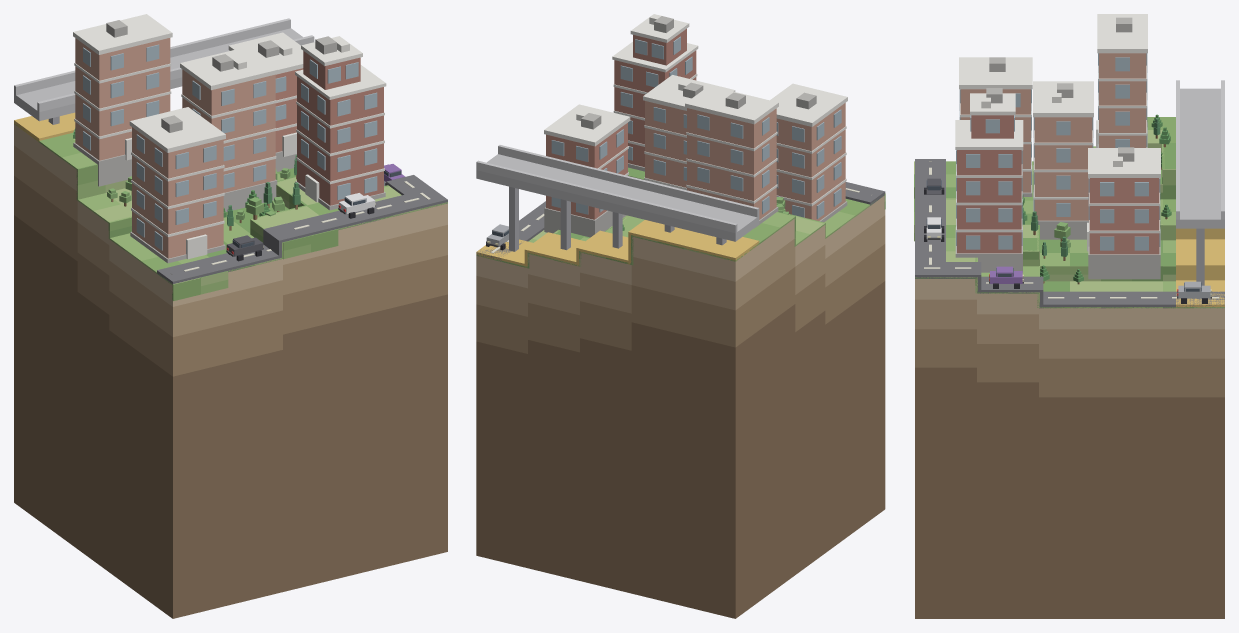
File: block_7_leakingdam_0.glb
The picture shows the model from 3 angles, left to right: view 1: azimuth 30°, elevation 25°; view 2: azimuth 150°, elevation 25°; view 3: azimuth 270°, elevation 25°; orthographic projection. The views are drawn at different scales.
Visible parts, largest first — view 1: Patch_UpperLeft_b04_LD, Res_UL_09_LD, Res_UL_06_LD, Res_UL_05_LD, Res_UL_08_LD, Green_UpperLeft_j4_b04_LD, Roads_UpperLeft_b04_LD, Bridge_UpperLeft_b04_LD, Res_UL_07_LD, Paver_UpperLeft_b04_LD, ULCar_007_LD, ULCar_006_LD; view 2: Patch_UpperLeft_b04_LD, Bridge_UpperLeft_b04_LD, Res_UL_05_LD, Res_UL_06_LD, Res_UL_09_LD, Res_UL_07_LD, Paver_UpperLeft_b04_LD, Res_UL_08_LD, Green_UpperLeft_j4_b04_LD, Roads_UpperLeft_b04_LD; view 3: Patch_UpperLeft_b04_LD, Res_UL_09_LD, Res_UL_07_LD, Green_UpperLeft_j4_b04_LD, Res_UL_08_LD, Bridge_UpperLeft_b04_LD, Roads_UpperLeft_b04_LD, Res_UL_05_LD, Res_UL_06_LD, Paver_UpperLeft_b04_LD, ULCar_011_LD, ULCar_012_LD (+1 smaller).
Boxes of the visible parts, x1=… form: Patch_UpperLeft_b04_LD: x1=14, y1=124, x2=447, y2=618; Res_UL_09_LD: x1=295, y1=36, x2=386, y2=210; Res_UL_06_LD: x1=129, y1=107, x2=225, y2=263; Res_UL_05_LD: x1=73, y1=14, x2=172, y2=186; Res_UL_08_LD: x1=180, y1=47, x2=277, y2=211; Green_UpperLeft_j4_b04_LD: x1=14, y1=124, x2=447, y2=301; Roads_UpperLeft_b04_LD: x1=157, y1=175, x2=447, y2=284; Bridge_UpperLeft_b04_LD: x1=14, y1=18, x2=314, y2=124; Res_UL_07_LD: x1=228, y1=32, x2=303, y2=171; Paver_UpperLeft_b04_LD: x1=14, y1=112, x2=75, y2=141; ULCar_007_LD: x1=338, y1=193, x2=375, y2=218; ULCar_006_LD: x1=226, y1=235, x2=263, y2=261; Patch_UpperLeft_b04_LD: x1=476, y1=196, x2=885, y2=618; Bridge_UpperLeft_b04_LD: x1=476, y1=145, x2=759, y2=251; Res_UL_05_LD: x1=685, y1=85, x2=778, y2=228; Res_UL_06_LD: x1=770, y1=83, x2=847, y2=222; Res_UL_09_LD: x1=612, y1=14, x2=698, y2=171; Res_UL_07_LD: x1=544, y1=104, x2=630, y2=237; Paver_UpperLeft_b04_LD: x1=476, y1=220, x2=759, y2=267; Res_UL_08_LD: x1=643, y1=75, x2=735, y2=190; Green_UpperLeft_j4_b04_LD: x1=476, y1=167, x2=885, y2=268; Roads_UpperLeft_b04_LD: x1=476, y1=182, x2=885, y2=260; Patch_UpperLeft_b04_LD: x1=915, y1=279, x2=1224, y2=618; Res_UL_09_LD: x1=955, y1=88, x2=1023, y2=272; Res_UL_07_LD: x1=1087, y1=147, x2=1160, y2=279; Green_UpperLeft_j4_b04_LD: x1=914, y1=117, x2=1224, y2=308; Res_UL_08_LD: x1=1033, y1=81, x2=1093, y2=239; Bridge_UpperLeft_b04_LD: x1=1176, y1=80, x2=1224, y2=285; Roads_UpperLeft_b04_LD: x1=915, y1=159, x2=1224, y2=308; Res_UL_05_LD: x1=1096, y1=14, x2=1147, y2=147; Res_UL_06_LD: x1=959, y1=57, x2=1032, y2=196; Paver_UpperLeft_b04_LD: x1=1176, y1=228, x2=1224, y2=308; ULCar_011_LD: x1=1177, y1=281, x2=1211, y2=303; ULCar_012_LD: x1=989, y1=266, x2=1023, y2=288.
Bounding box in the file's own units: 9.5 × 16.62 × 9.53.
